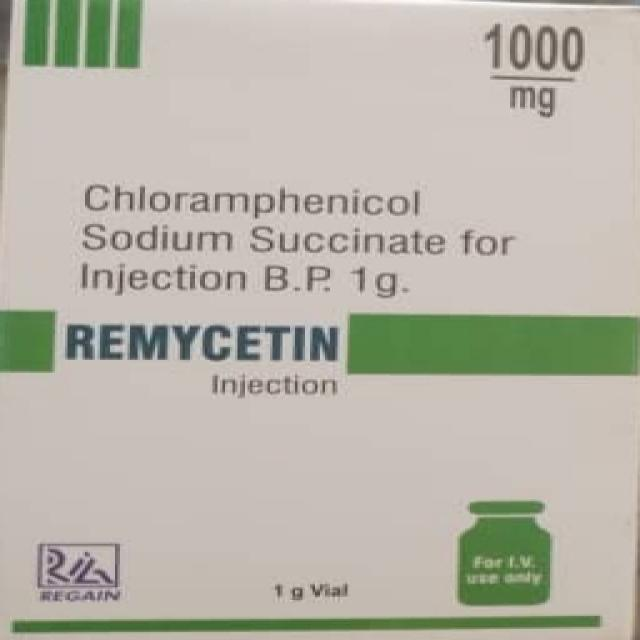drug-name: (62, 316, 344, 362)
